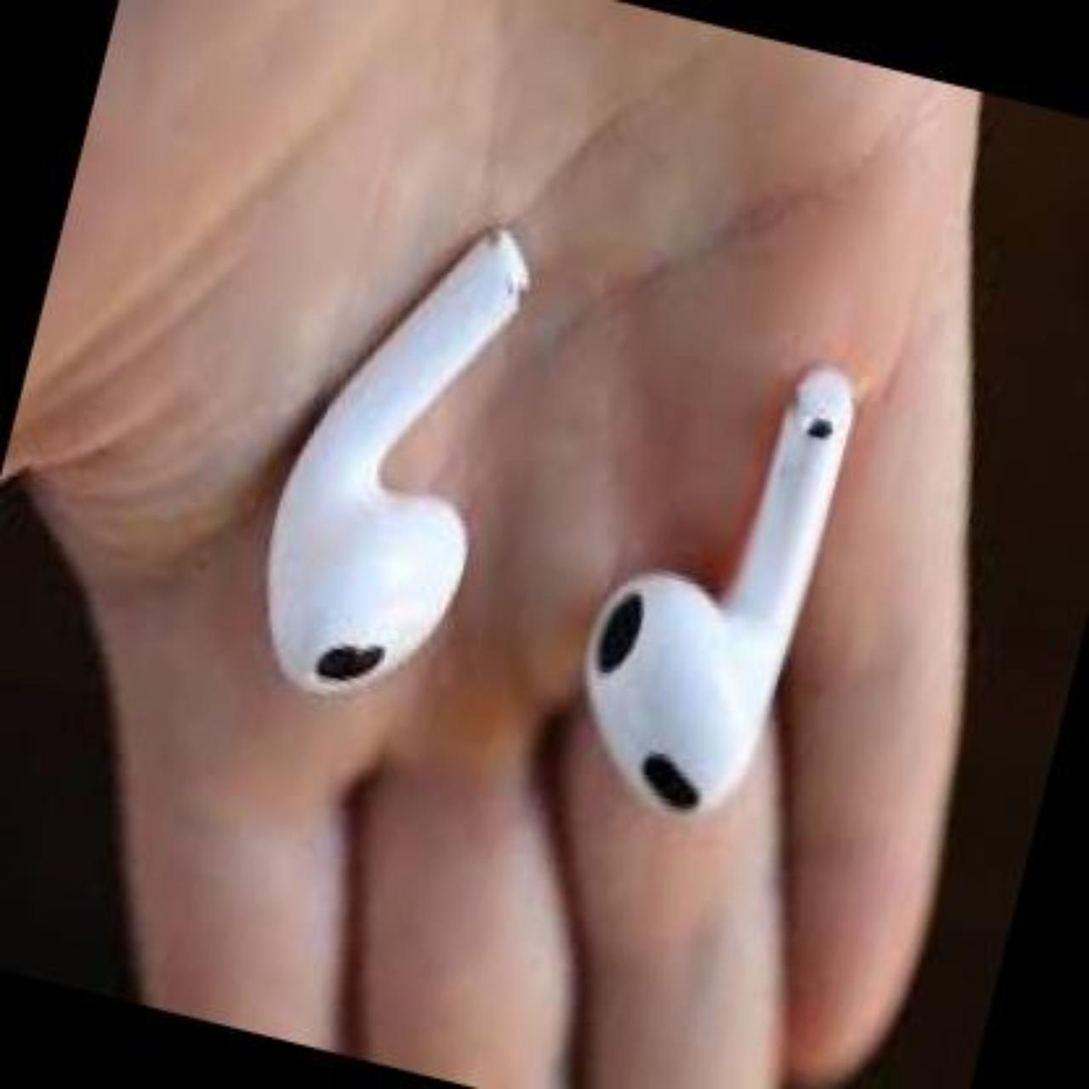Airpods_Units: (210, 183, 587, 751), (563, 319, 882, 847)
